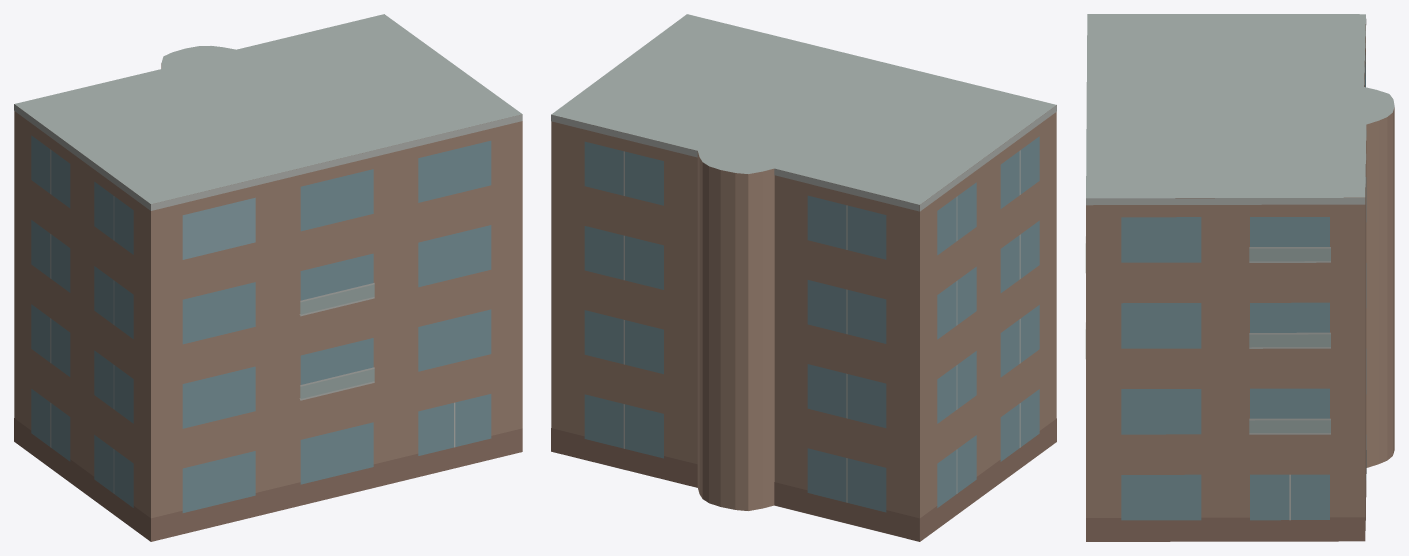
Rendered from survey-upis-32993042.glb.
3 views of the same model, side by side, from view 1: azimuth 30°, elevation 25°; view 2: azimuth 150°, elevation 25°; view 3: azimuth 270°, elevation 25° (orthographic).
Visible parts, largest first — view 1: survey-upis-32993042.tmp; view 2: survey-upis-32993042.tmp; view 3: survey-upis-32993042.tmp.
Boxes of the visible parts, box(x1,y1,x2,y2) form: survey-upis-32993042.tmp: box(14, 14, 522, 541); survey-upis-32993042.tmp: box(551, 14, 1056, 541); survey-upis-32993042.tmp: box(1085, 14, 1394, 541).
Bounding box in the file's own units: 14.06 × 12.2 × 9.96.
